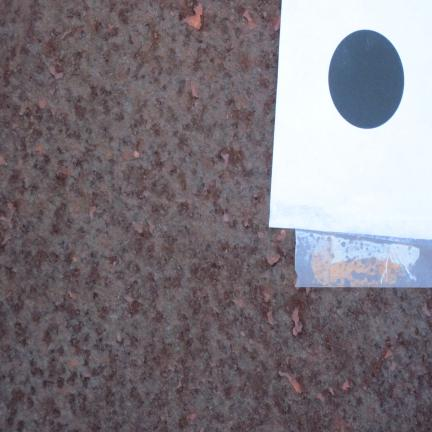karat: (1, 5, 259, 425), (264, 288, 431, 432)
